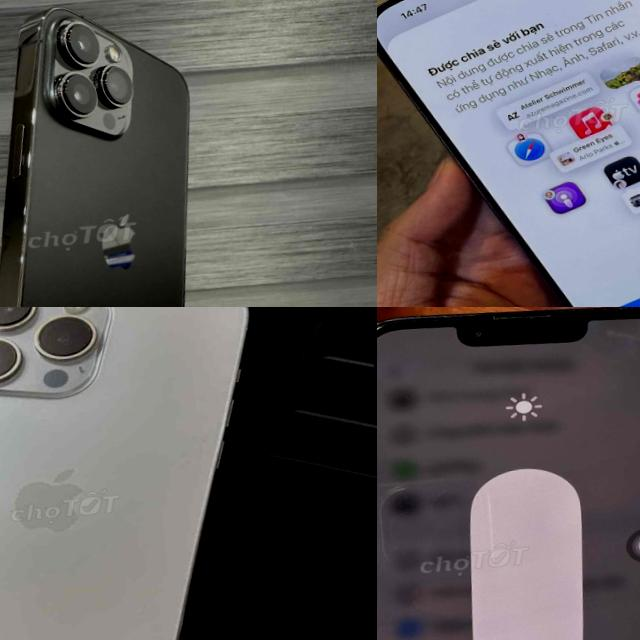gen_12_13: (377, 307, 640, 640), (0, 0, 231, 307)
gen_14: (0, 307, 300, 640)
gen_15: (377, 0, 640, 307)
